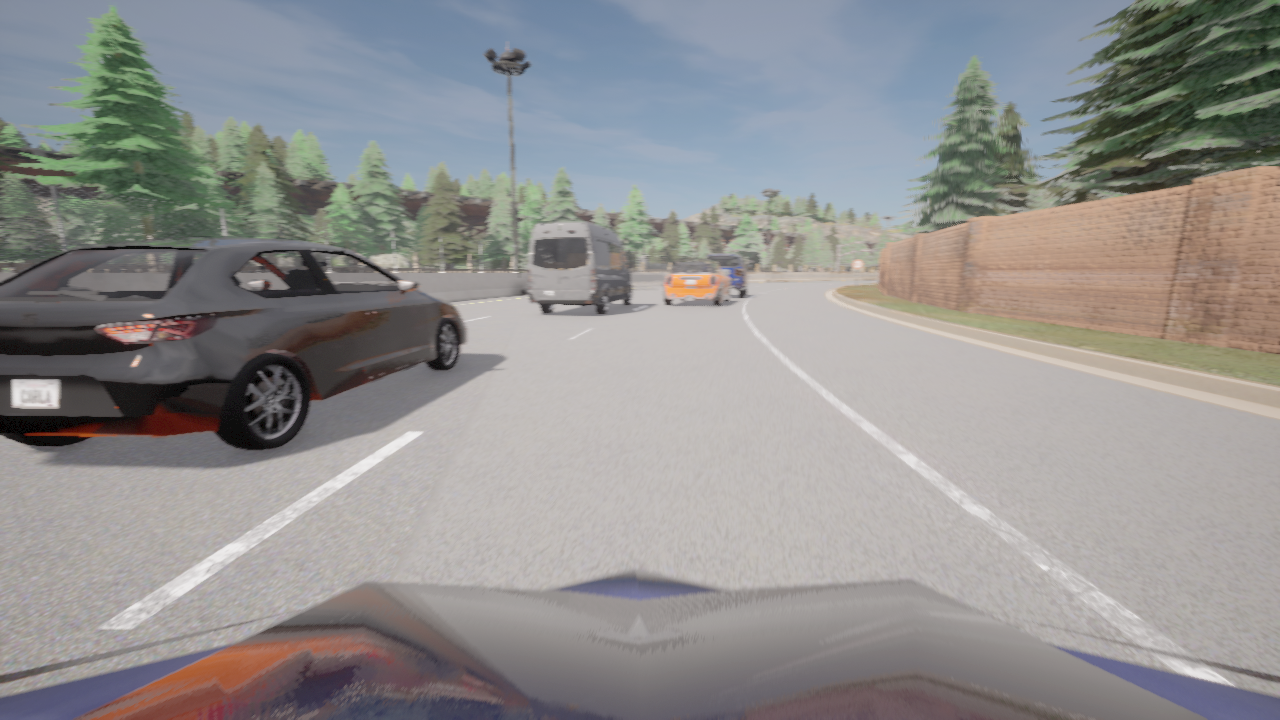cyclist: (0, 569, 1279, 719), (0, 238, 466, 450), (528, 222, 633, 313), (663, 256, 730, 306), (705, 254, 750, 298)
